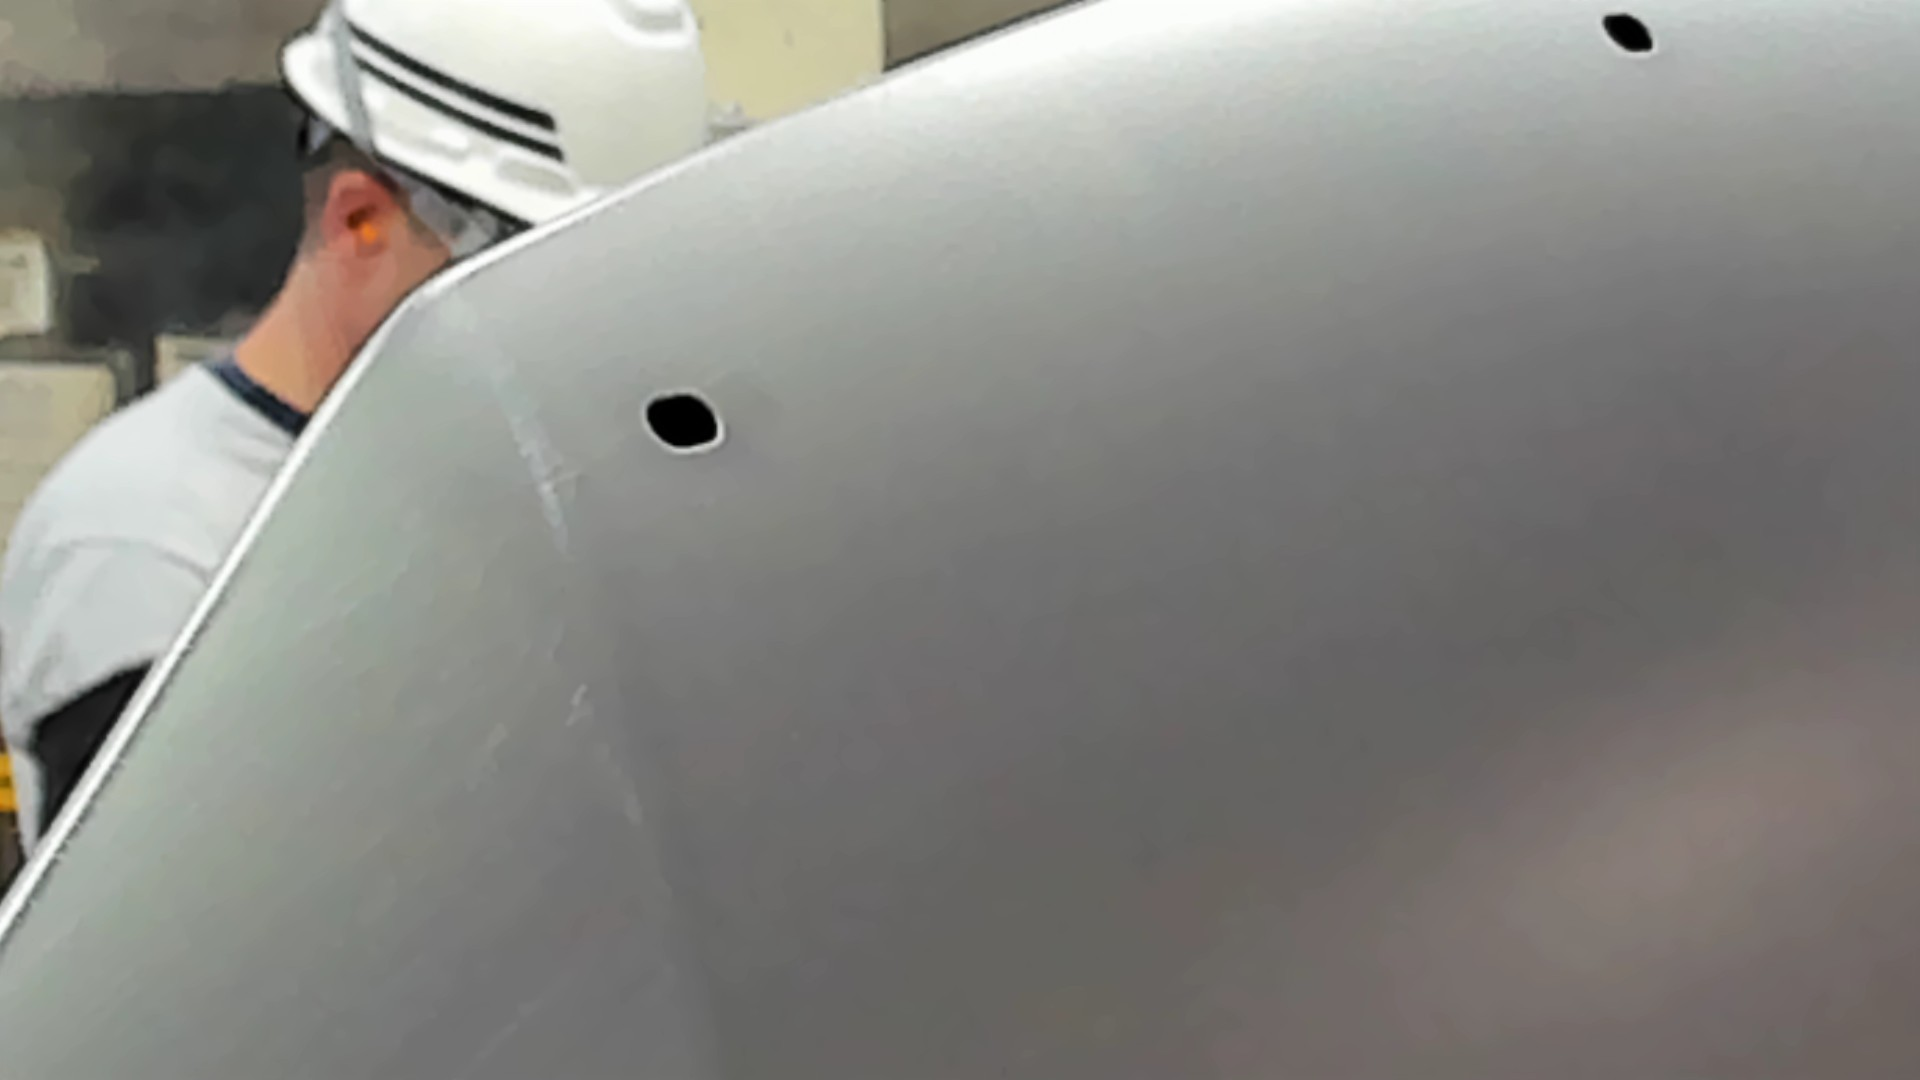amorfo: (641, 381, 733, 456), (1596, 11, 1663, 69)
capo: (840, 138, 1920, 1080)
